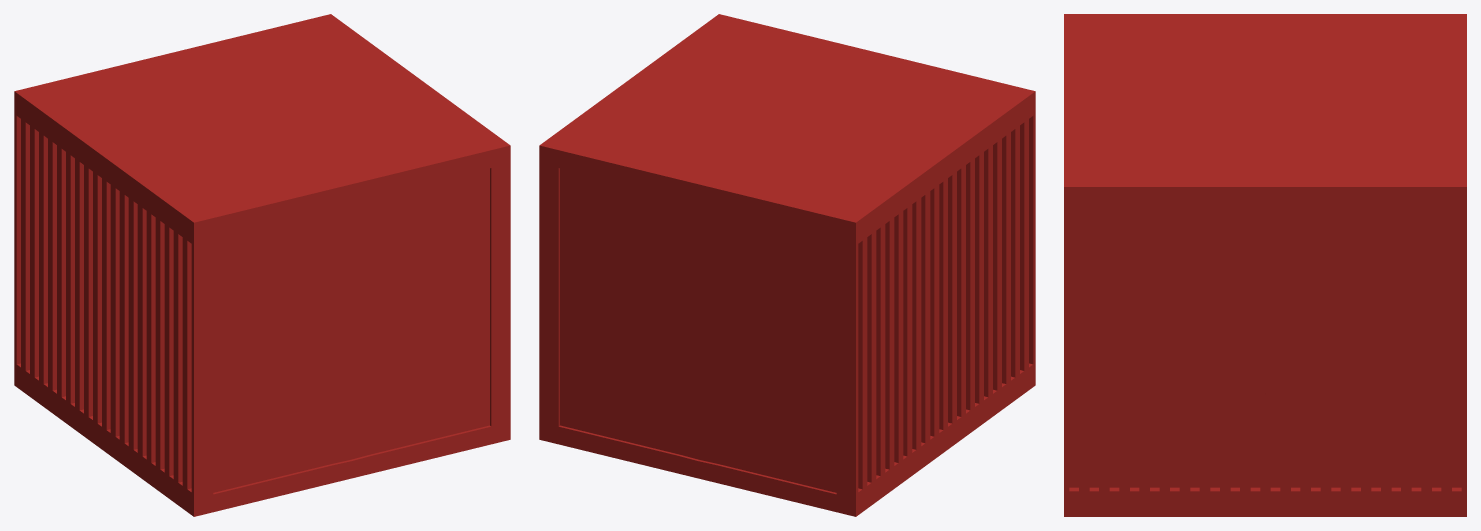
Rendered from SCargoModel01.fbx.
The picture shows the model from 3 angles, left to right: view 1: azimuth 30°, elevation 25°; view 2: azimuth 150°, elevation 25°; view 3: azimuth 270°, elevation 25°; orthographic projection. The views are drawn at different scales.
Parts seen in each view (by area): view 1: SCargoModel01; view 2: SCargoModel01; view 3: SCargoModel01.
Part boxes in pixels (x1,y1,x2,y2): SCargoModel01: [14, 14, 510, 516]; SCargoModel01: [539, 14, 1035, 516]; SCargoModel01: [1064, 14, 1466, 516].
Size of the model in its own units: 288 by 255 by 283.
